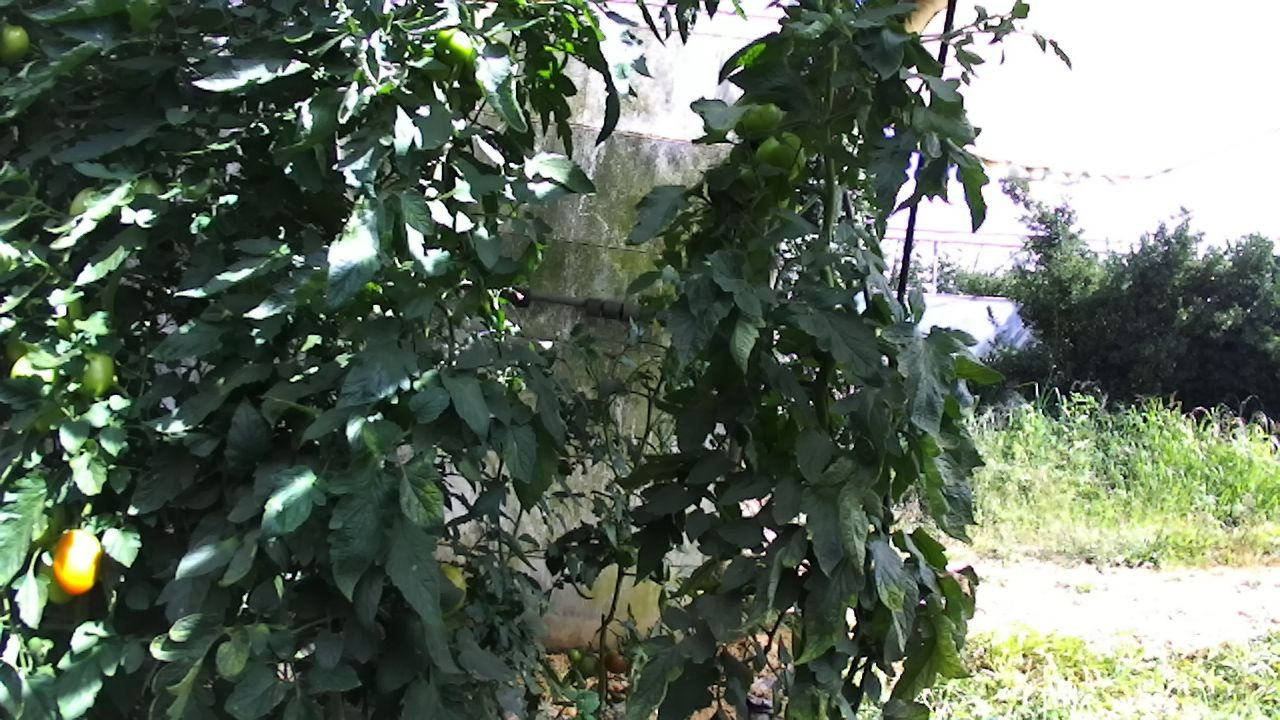tomato: (49, 525, 105, 599), (429, 21, 475, 70), (81, 350, 119, 401), (0, 19, 33, 70)
